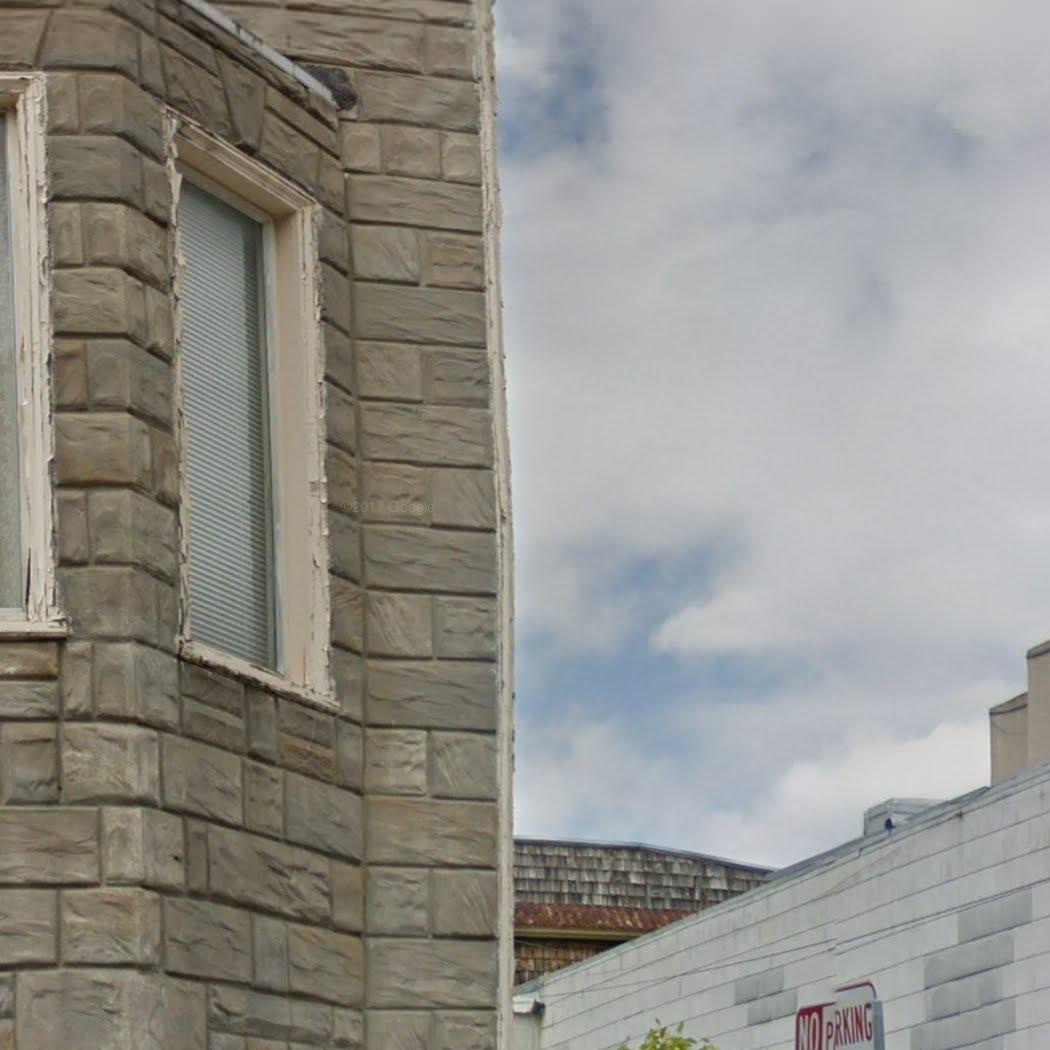No Parking: (794, 980, 877, 1050)
